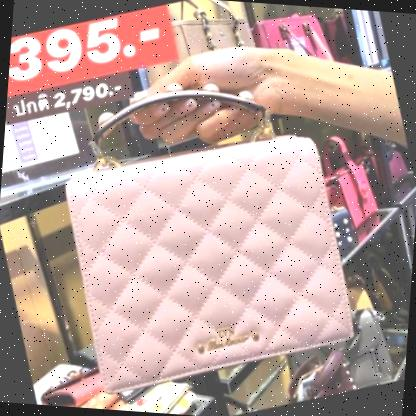bag: (43, 71, 378, 414)
